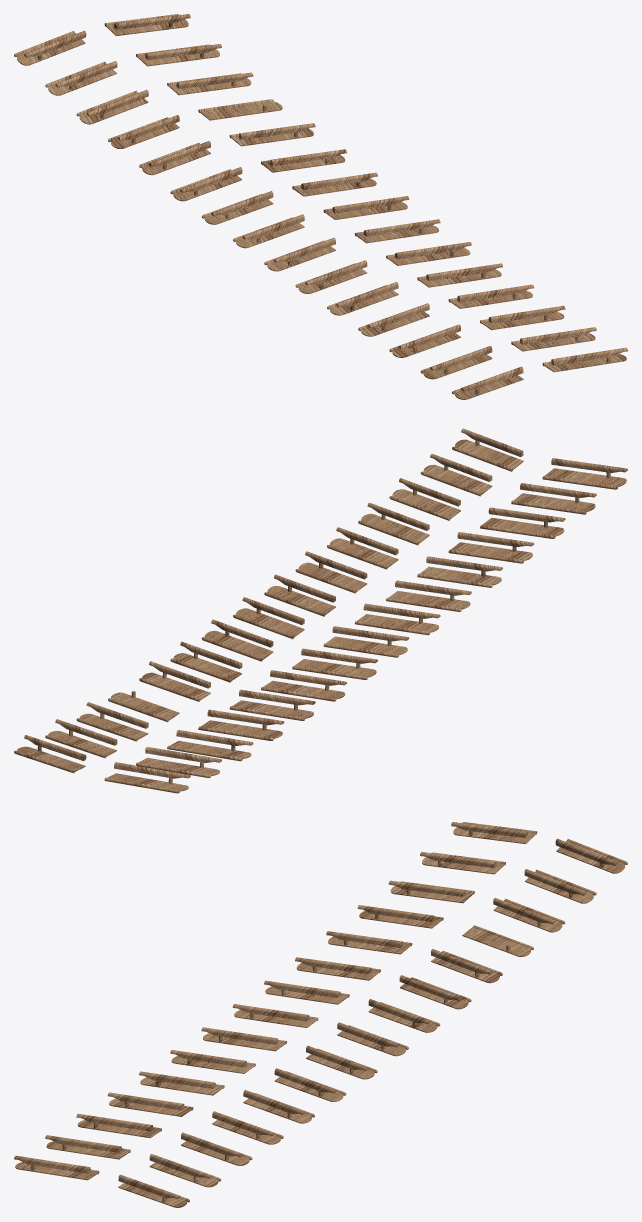
3 renders of one model, top to bottom at view 1: azimuth 30°, elevation 25°; view 2: azimuth 150°, elevation 25°; view 3: azimuth 330°, elevation 25°, orthographic.
Visible parts, largest first — view 1: reaseat2; view 2: reaseat2; view 3: reaseat2.
Part boxes in pixels (x1=…): reaseat2: x1=14, y1=14, x2=627, y2=399; reaseat2: x1=14, y1=428, x2=627, y2=793; reaseat2: x1=14, y1=822, x2=627, y2=1207.
Size of the model in its own units: 107819 by 22962 by 508963.
